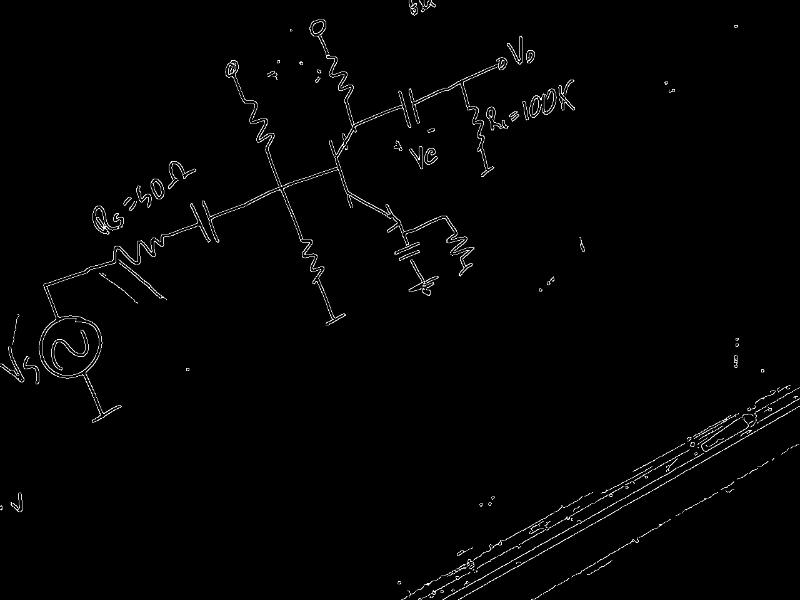-: (426, 126, 436, 135)
0: (540, 86, 558, 117), (149, 177, 165, 201), (528, 93, 543, 118), (525, 47, 537, 64)
1: (520, 98, 530, 122)
5: (135, 184, 153, 210), (111, 211, 125, 228)
V: (0, 345, 28, 386), (505, 34, 524, 65), (408, 143, 424, 172)
k: (557, 77, 577, 112)
